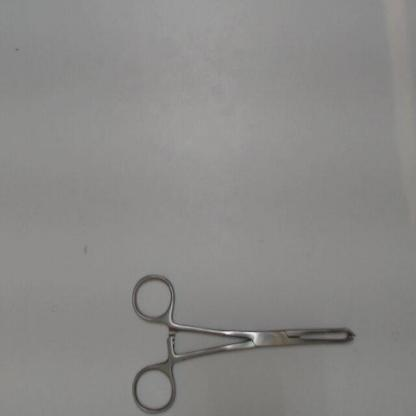Allis Tissue Forceps: (126, 266, 362, 416)
